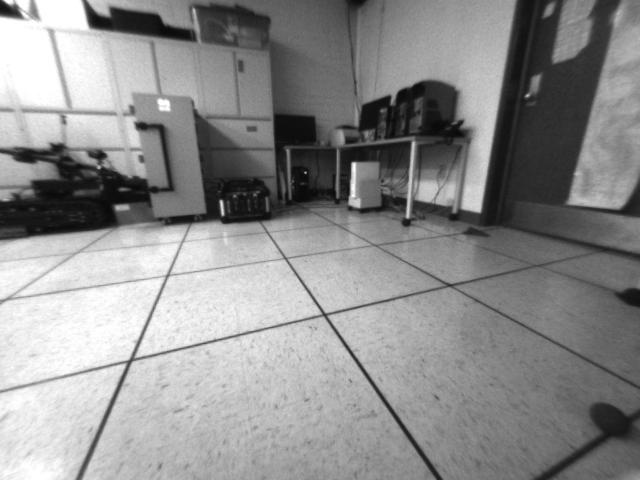dogtoy: (583, 392, 640, 445)
